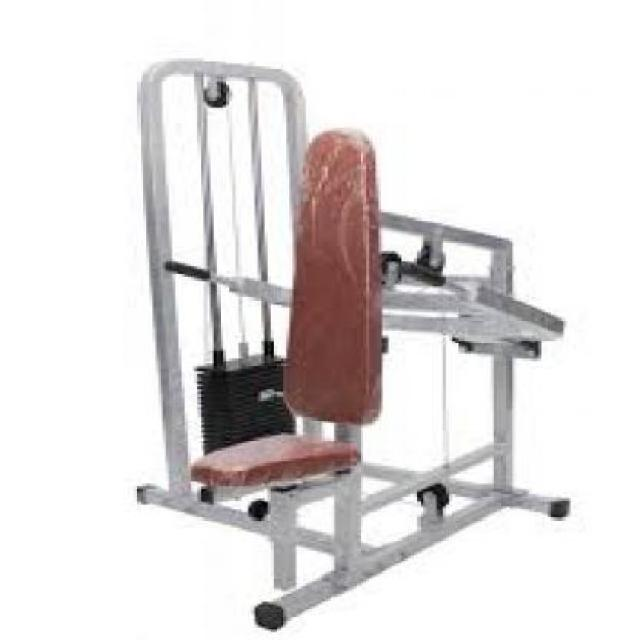seated dip machine: (131, 57, 574, 631)
